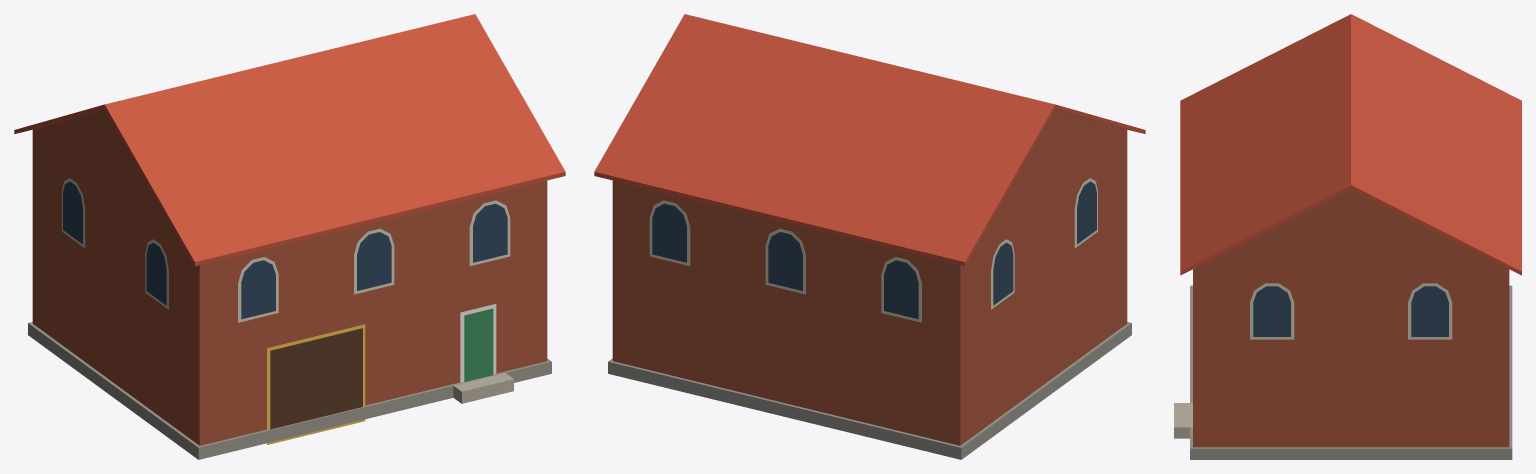
Rendered from atelier_artisan.glb.
3 views of the same model, side by side, from view 1: azimuth 30°, elevation 25°; view 2: azimuth 150°, elevation 25°; view 3: azimuth 270°, elevation 25° (orthographic). The views are drawn at different scales.
Visible parts, largest first — view 1: atelier_artisan; view 2: atelier_artisan; view 3: atelier_artisan.
Part boxes in pixels (x1,y1,x2,y2): atelier_artisan: (14, 14, 565, 459); atelier_artisan: (594, 14, 1145, 459); atelier_artisan: (1174, 14, 1521, 459).
Bounding box in the file's own units: 12.8 × 9.84 × 11.
Materials: 1 (1 with a texture image).
